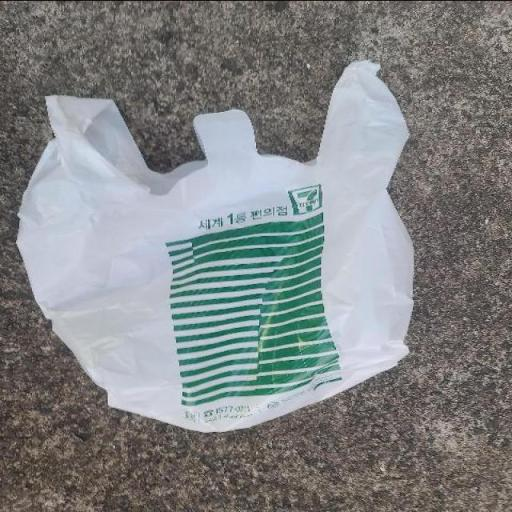plastic-bag: (16, 56, 418, 434)
